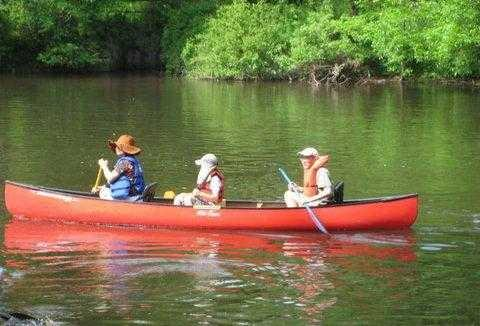kayak: (7, 184, 424, 236)
